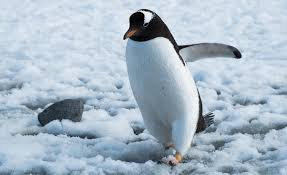Walking: (107, 9, 256, 170)
